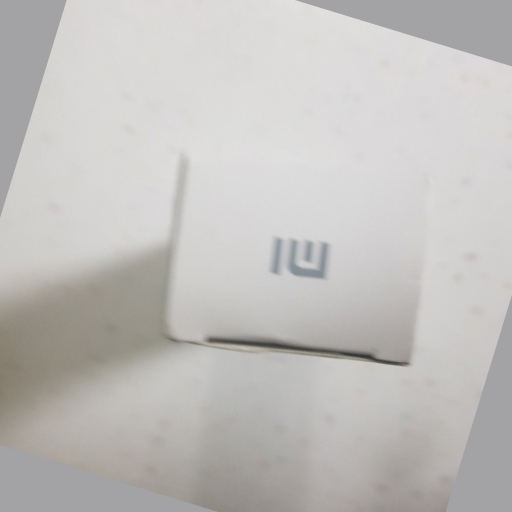Paper_0: (164, 147, 436, 374)
